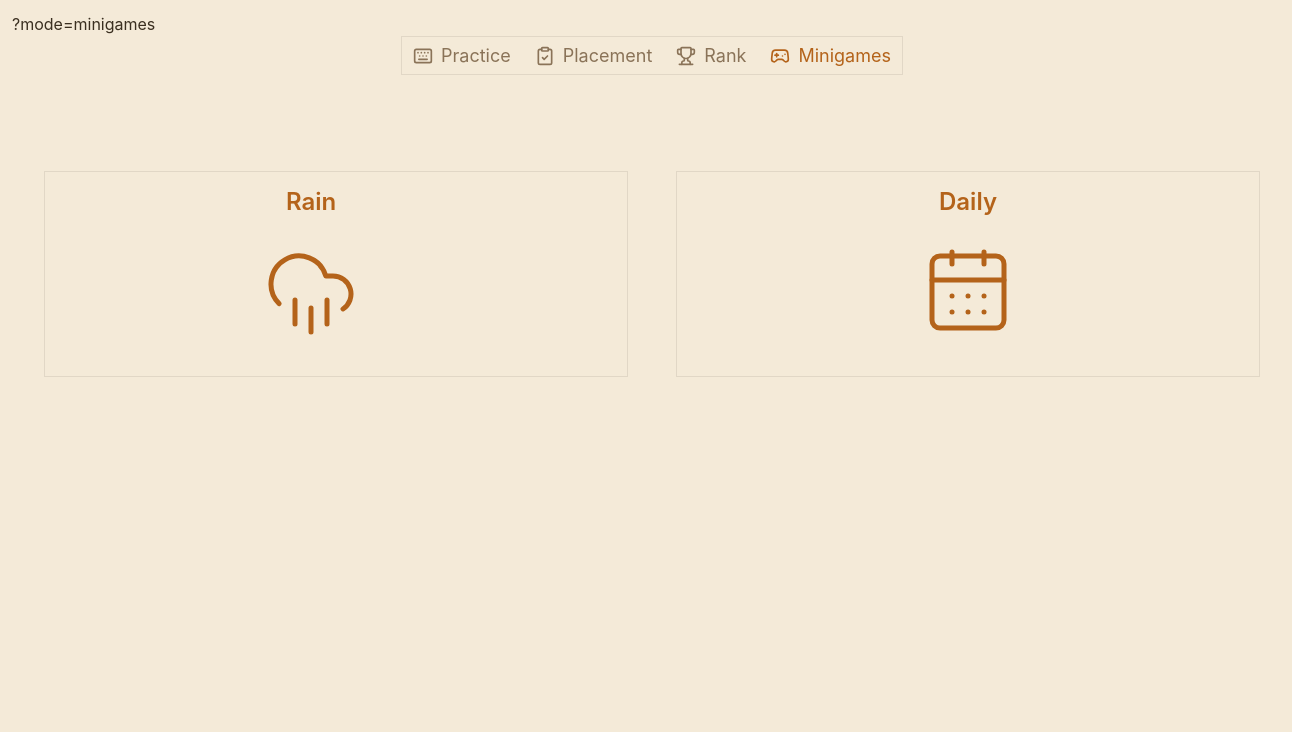
Scenario: TypingPage › opens the daily challenge from its card, without a practice session
Click the button "Daily" at (968, 274), box [676, 171, 1260, 377]
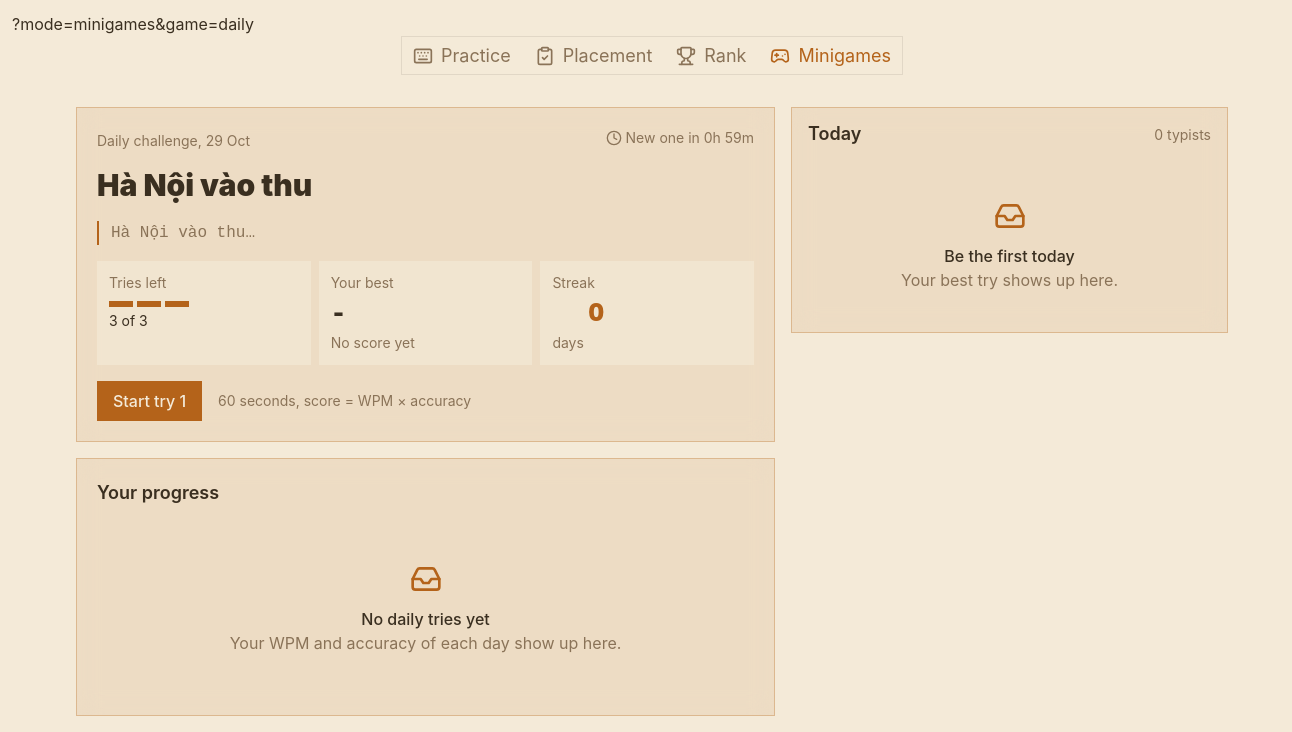
Now the button "Start try 1" is shown, box [97, 380, 202, 420]
Now the text named "URL search" reads "?mode=minigames&game=daily", box [12, 14, 254, 34]
